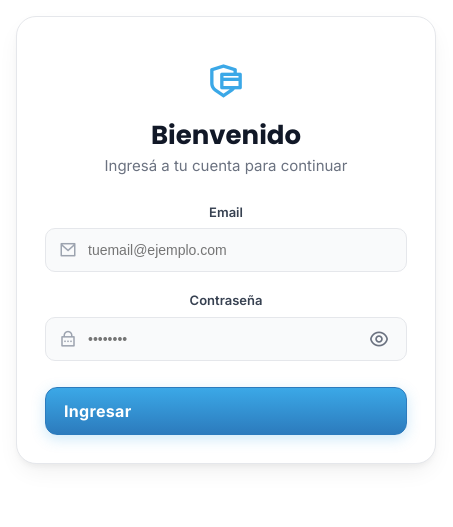
Scenario: Login › muestra error si los campos están vacíos
Click the button "Ingresar": (98, 411) [45,387,407,435]
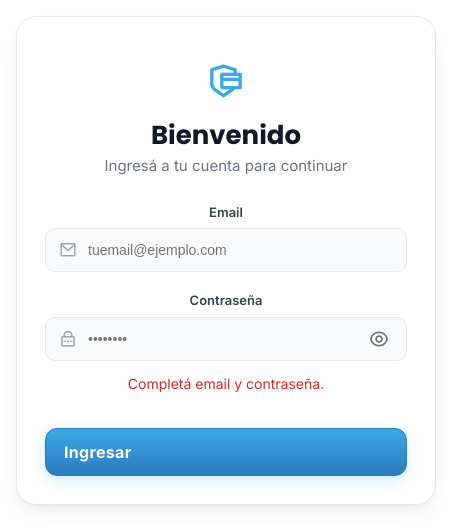
Expected: the message reads "Completá email y contraseña.", [128,375,324,392]
